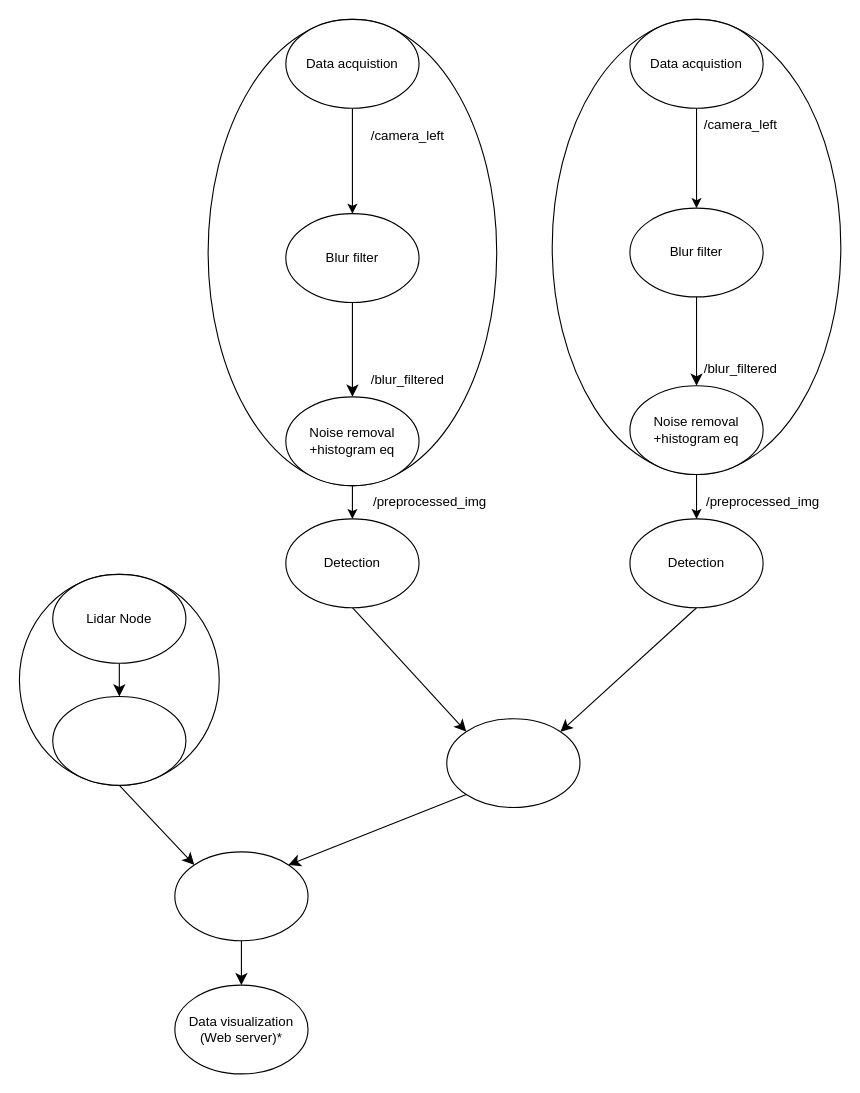
The diagram is 860 pixels wide and 1093 high, and some of its shapes have lost their labels. Each missing label, with the centre of its shape:
"Fuser" goes at point (241, 896).
"SLAM*" goes at point (119, 740).
"Triangulation" goes at point (513, 763).
